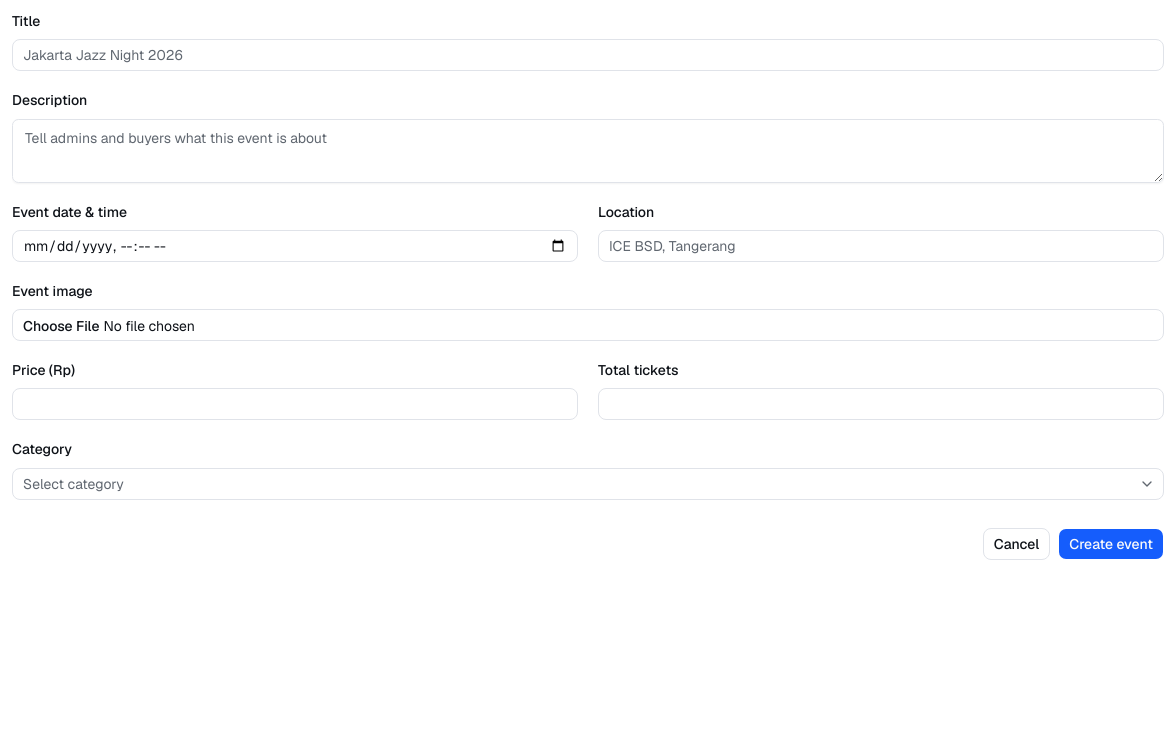
Test: EventForm › shows validation errors and does not submit for an empty required field
The image size is (1176, 732).
Click the button "Create event" at [1111, 544], box [1058, 528, 1164, 560]
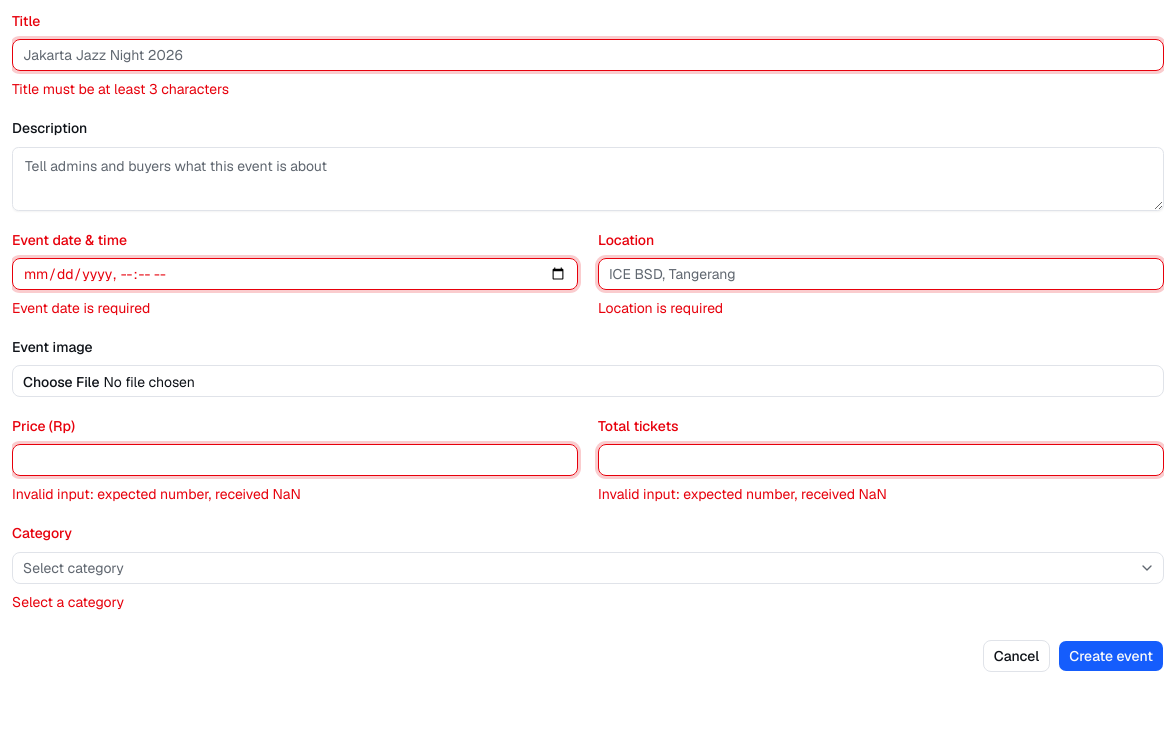
Check: the text "Title must be at least 3 characters" is shown, box [12, 80, 229, 98]
Check: the text "Location is required" is shown, box [598, 299, 723, 317]
Check: the text "Select a category" is shown, box [12, 592, 124, 610]
